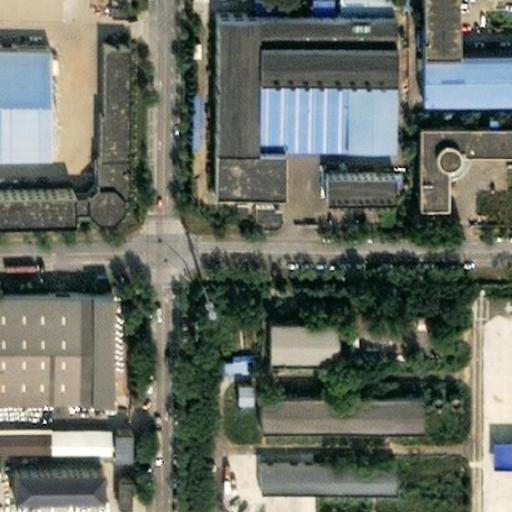building: (200, 2, 381, 138), (0, 284, 96, 395), (409, 110, 512, 188), (399, 45, 512, 95), (0, 45, 47, 156), (248, 387, 410, 418), (81, 35, 111, 186), (481, 298, 512, 422), (250, 453, 384, 481), (200, 138, 269, 185), (255, 311, 323, 351), (0, 463, 86, 491), (18, 418, 100, 446), (311, 163, 383, 191), (58, 176, 106, 210), (264, 489, 315, 512), (194, 290, 222, 322), (252, 199, 282, 226), (1, 257, 41, 273), (493, 437, 512, 466), (100, 419, 117, 446), (106, 469, 119, 496), (503, 158, 512, 172)
